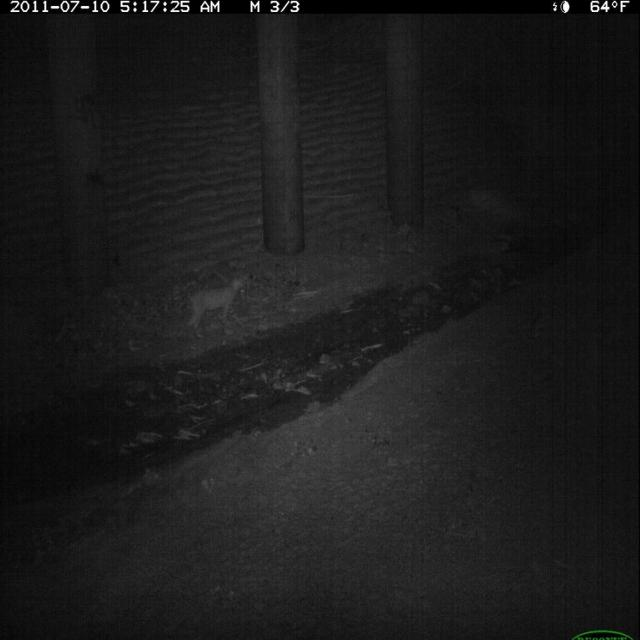bobcat: (180, 268, 250, 347)
